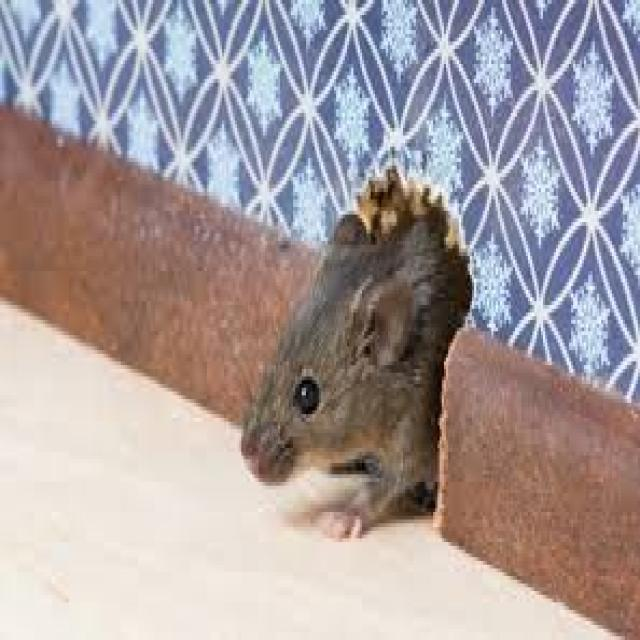rat: (232, 200, 466, 561)
